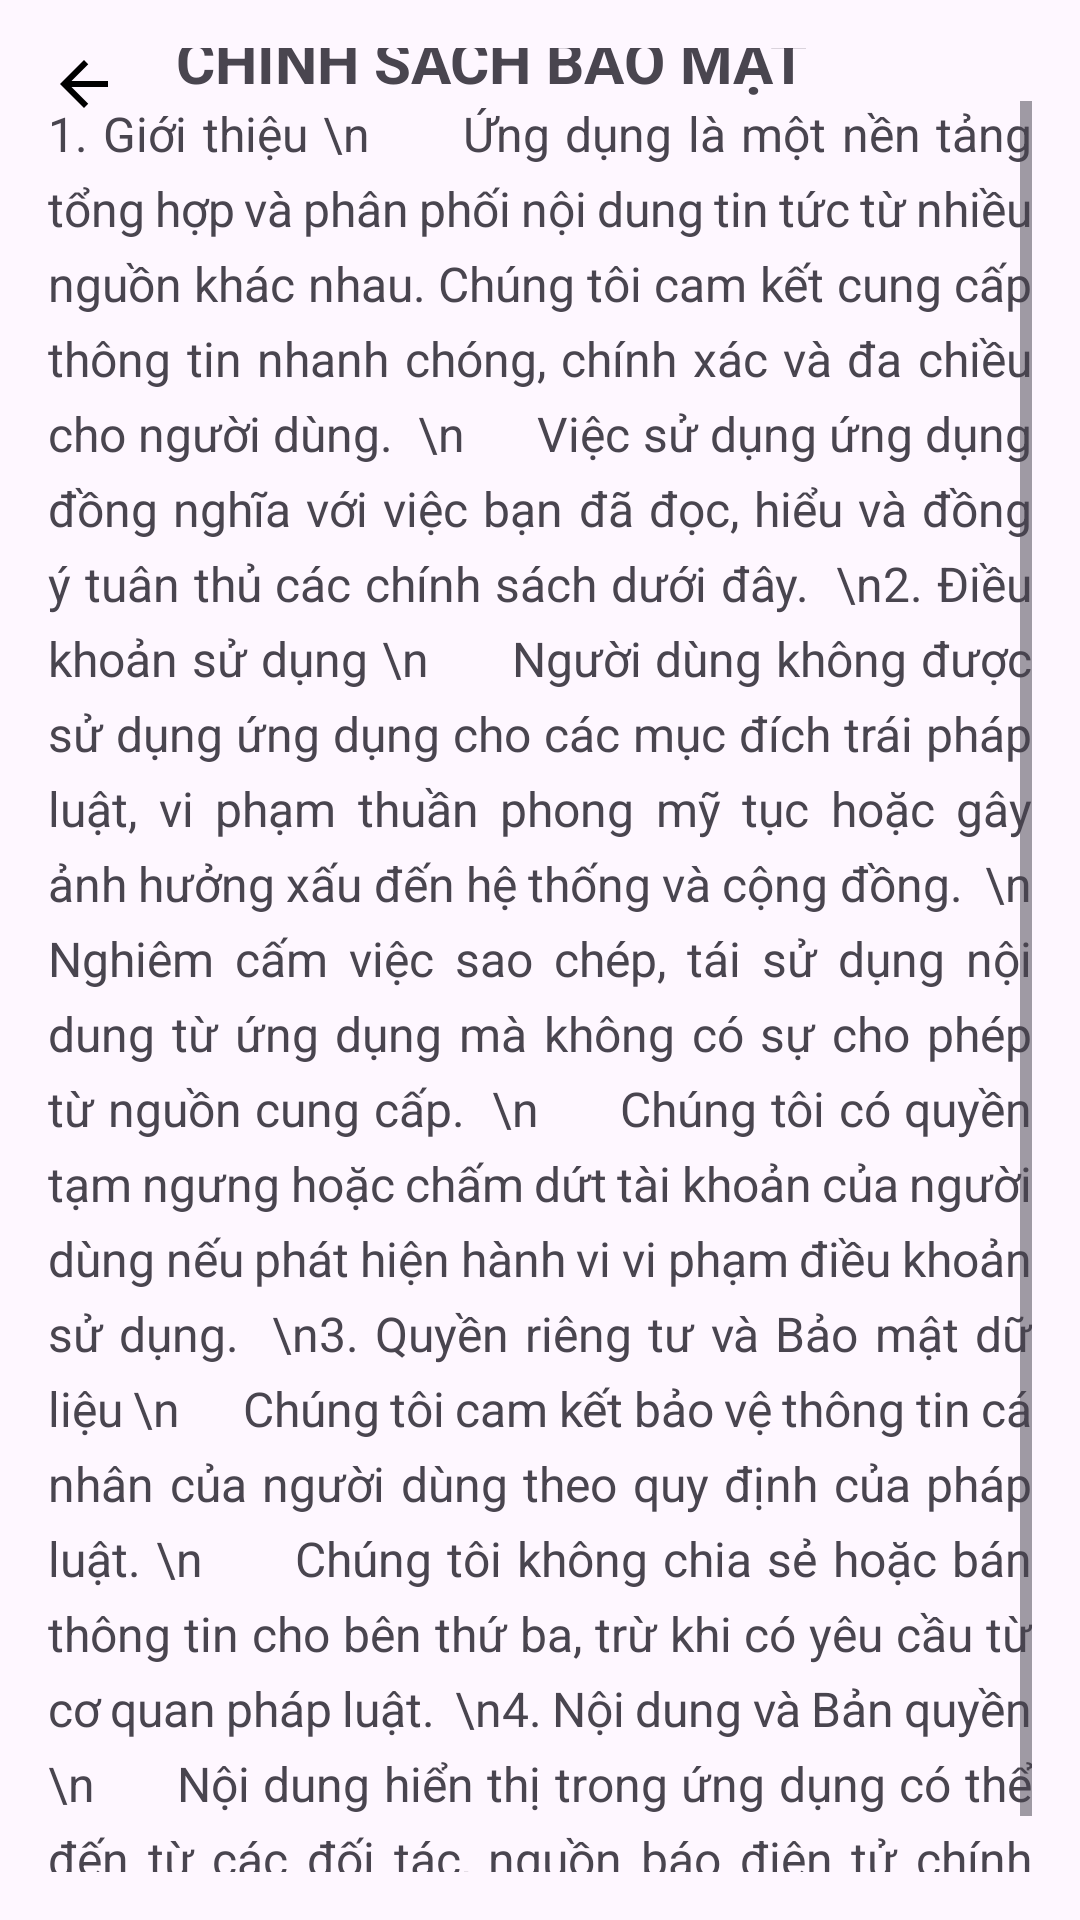

Icons on this 1080px x 1920px Android screen, each with its box as [x1, y1, x2, y2]:
Quay lại: [60, 60, 108, 108]
